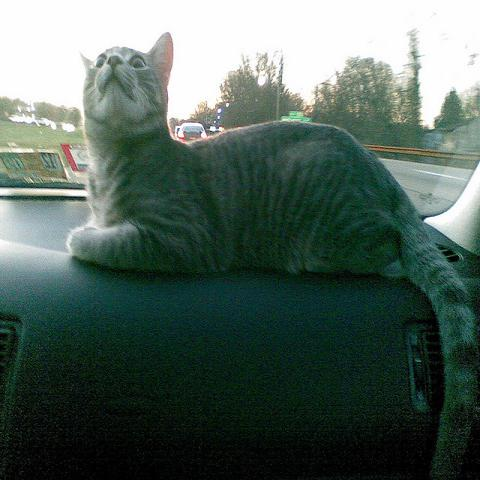car: (2, 156, 480, 475), (175, 121, 207, 142)
